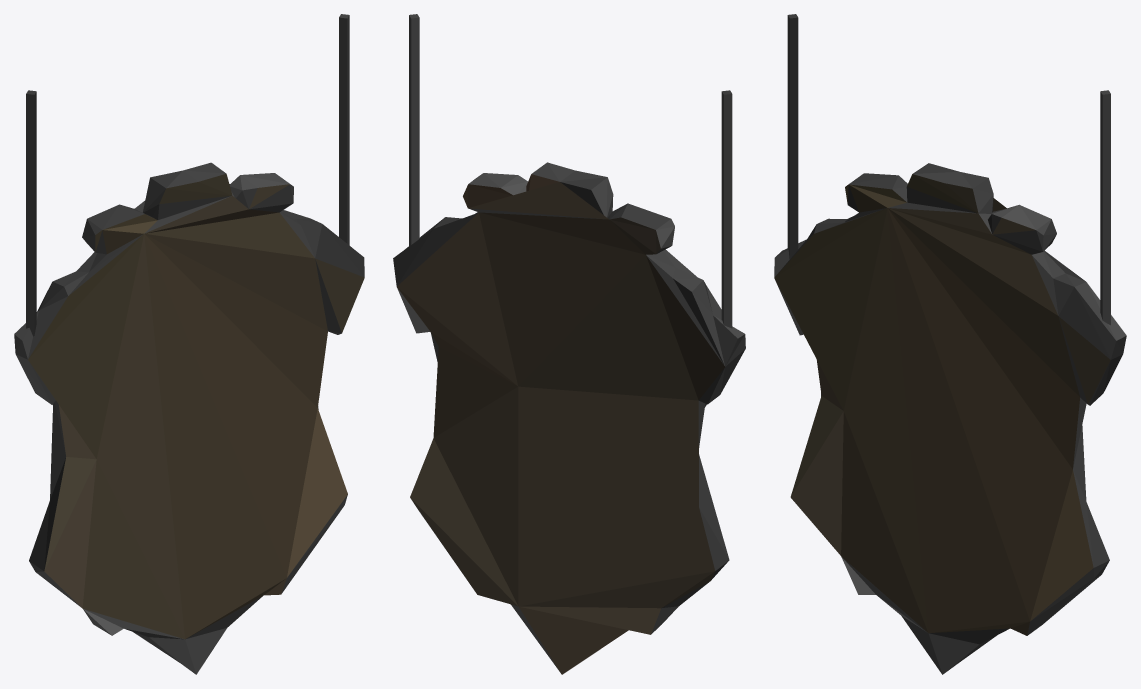
File: Sign-HangingD.fbx
The picture shows the model from 3 angles, left to right: view 1: azimuth 30°, elevation 25°; view 2: azimuth 150°, elevation 25°; view 3: azimuth 330°, elevation 25°; orthographic projection.
Visible parts, largest first — view 1: Sign-HangingD; view 2: Sign-HangingD; view 3: Sign-HangingD.
Boxes of the visible parts, x1,y1,x2,y2 form: Sign-HangingD: (14, 14, 364, 674); Sign-HangingD: (393, 14, 745, 674); Sign-HangingD: (774, 14, 1126, 674).
Bounding box in the file's own units: 96.29 × 165 × 8.87.
